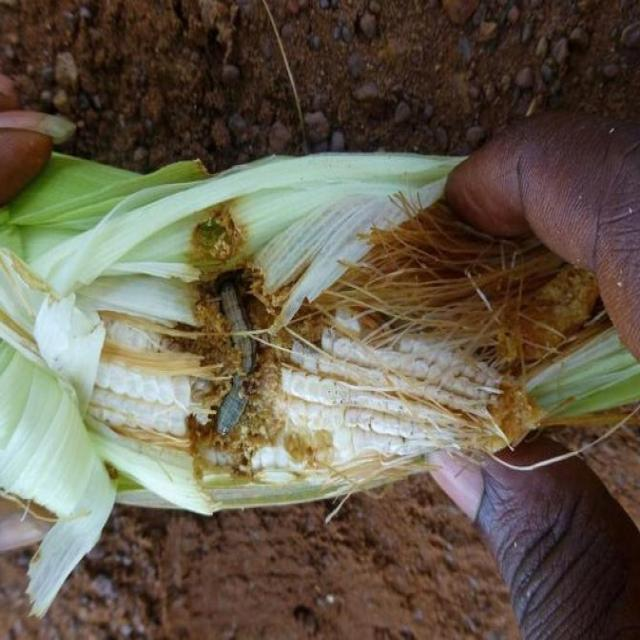army worm: (201, 269, 263, 447)
